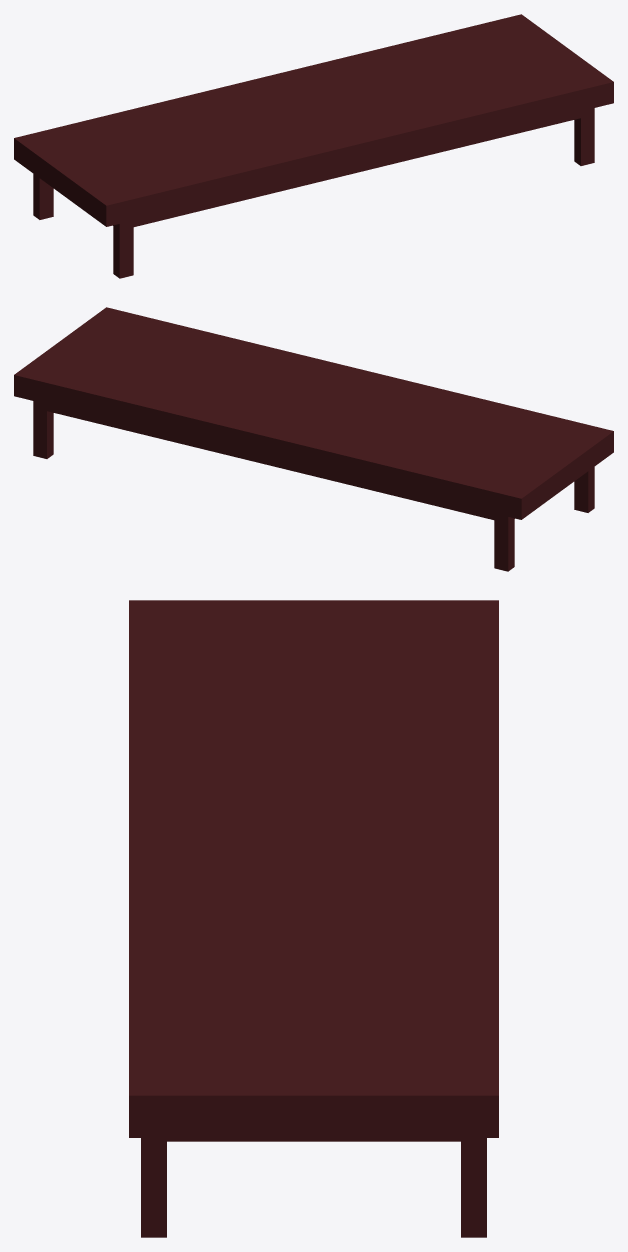
File: mesacafe.fbx
3 views of the same model, one above another, from view 1: azimuth 30°, elevation 25°; view 2: azimuth 150°, elevation 25°; view 3: azimuth 270°, elevation 25° (orthographic). The views are drawn at different scales.
Parts seen in each view (by area): view 1: Cube.027; view 2: Cube.027; view 3: Cube.027.
Boxes of the visible parts, x1,y1,x2,y2 form: Cube.027: [14, 14, 613, 278]; Cube.027: [14, 307, 613, 571]; Cube.027: [129, 600, 498, 1237].
Bounding box in the file's own units: 3236 × 482 × 1021.
